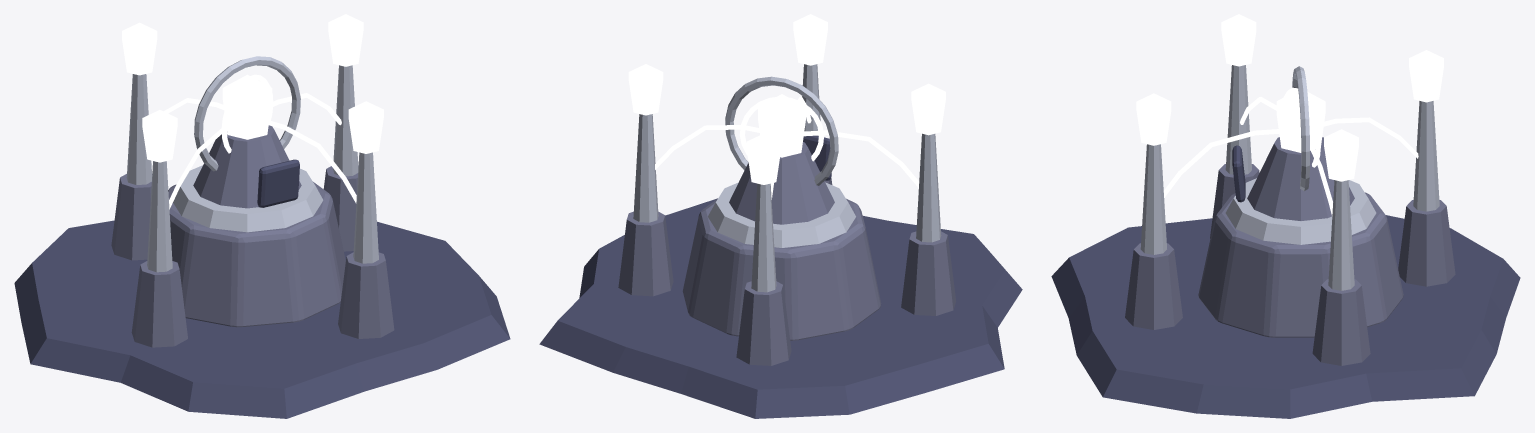
Rendered from thunder-highlands-lod1.glb.
3 renders of one model, left to right at view 1: azimuth 30°, elevation 25°; view 2: azimuth 150°, elevation 25°; view 3: azimuth 270°, elevation 25°, orthographic. The views are drawn at different scales.
Visible parts, largest first — view 1: STONE_TERRAIN_SOCKET, STONE_OBSERVATORY_LOWER, STONE_OBSERVATORY_DOME, TRIM_OBSERVATORY_GALLERY, STONE_CONDUCTOR_BASE_3, STONE_CONDUCTOR_BASE_2, STONE_CONDUCTOR_BASE_1, FX_CORE, FX_RING_PRIMARY, METAL_CONDUCTOR_3, METAL_CONDUCTOR_2, METAL_CONDUCTOR_1 (+10 smaller); view 2: STONE_TERRAIN_SOCKET, STONE_OBSERVATORY_LOWER, STONE_OBSERVATORY_DOME, TRIM_OBSERVATORY_GALLERY, STONE_CONDUCTOR_BASE_0, STONE_CONDUCTOR_BASE_1, STONE_CONDUCTOR_BASE_2, FX_RING_PRIMARY, METAL_CONDUCTOR_1, METAL_CONDUCTOR_2, METAL_CONDUCTOR_0, FX_CORE (+9 smaller); view 3: STONE_TERRAIN_SOCKET, STONE_OBSERVATORY_LOWER, STONE_OBSERVATORY_DOME, STONE_CONDUCTOR_BASE_1, STONE_CONDUCTOR_BASE_3, STONE_CONDUCTOR_BASE_0, TRIM_OBSERVATORY_GALLERY, METAL_CONDUCTOR_0, METAL_CONDUCTOR_3, METAL_CONDUCTOR_1, METAL_CONDUCTOR_2, FX_CORE (+9 smaller).
Boxes of the visible parts, x1,y1,x2,y2 form: STONE_TERRAIN_SOCKET: [14, 220, 510, 418]; STONE_OBSERVATORY_LOWER: [168, 182, 345, 327]; STONE_OBSERVATORY_DOME: [193, 125, 301, 208]; TRIM_OBSERVATORY_GALLERY: [173, 165, 323, 232]; STONE_CONDUCTOR_BASE_3: [338, 252, 394, 338]; STONE_CONDUCTOR_BASE_2: [131, 261, 187, 347]; STONE_CONDUCTOR_BASE_1: [111, 174, 152, 260]; FX_CORE: [222, 74, 272, 139]; FX_RING_PRIMARY: [194, 56, 300, 171]; METAL_CONDUCTOR_3: [353, 152, 378, 263]; METAL_CONDUCTOR_2: [147, 161, 172, 272]; METAL_CONDUCTOR_1: [126, 74, 152, 184]; STONE_TERRAIN_SOCKET: [539, 198, 1022, 418]; STONE_OBSERVATORY_LOWER: [682, 198, 881, 340]; STONE_OBSERVATORY_DOME: [729, 142, 834, 224]; TRIM_OBSERVATORY_GALLERY: [708, 182, 855, 247]; STONE_CONDUCTOR_BASE_0: [618, 211, 673, 296]; STONE_CONDUCTOR_BASE_1: [736, 281, 791, 365]; STONE_CONDUCTOR_BASE_2: [901, 231, 955, 315]; FX_RING_PRIMARY: [725, 76, 838, 185]; METAL_CONDUCTOR_1: [751, 183, 776, 292]; METAL_CONDUCTOR_2: [916, 133, 941, 242]; METAL_CONDUCTOR_0: [633, 114, 658, 222]; FX_CORE: [758, 94, 805, 157]; STONE_TERRAIN_SOCKET: [1051, 215, 1520, 418]; STONE_OBSERVATORY_LOWER: [1198, 192, 1403, 337]; STONE_OBSERVATORY_DOME: [1247, 137, 1354, 220]; STONE_CONDUCTOR_BASE_1: [1398, 200, 1455, 286]; STONE_CONDUCTOR_BASE_3: [1125, 243, 1182, 329]; STONE_CONDUCTOR_BASE_0: [1312, 279, 1370, 365]; TRIM_OBSERVATORY_GALLERY: [1225, 178, 1376, 244]; METAL_CONDUCTOR_0: [1328, 180, 1354, 290]; METAL_CONDUCTOR_3: [1140, 144, 1166, 254]; METAL_CONDUCTOR_1: [1413, 101, 1439, 211]; METAL_CONDUCTOR_2: [1225, 65, 1251, 174]; FX_CORE: [1276, 90, 1325, 152].
Bounding box in the file's own units: 1.83 × 1.01 × 1.74.
